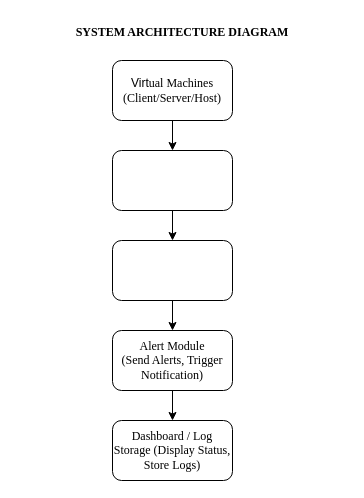
This 364x498 diagram has some shape labels left out. The centre of each missing label's shape, as x and y in pixels:
"Fault Detection Engine (Analyze Response, Detect Failure)" goes at (172,270).
"Monitoring Module (Ping Requests, Status Collection)" goes at (172,180).
